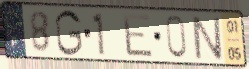0: (164, 14, 188, 61)
1: (90, 10, 107, 57)
8: (28, 9, 53, 55)
E: (121, 12, 156, 60)
G: (53, 8, 84, 58)
N: (189, 14, 225, 62)
